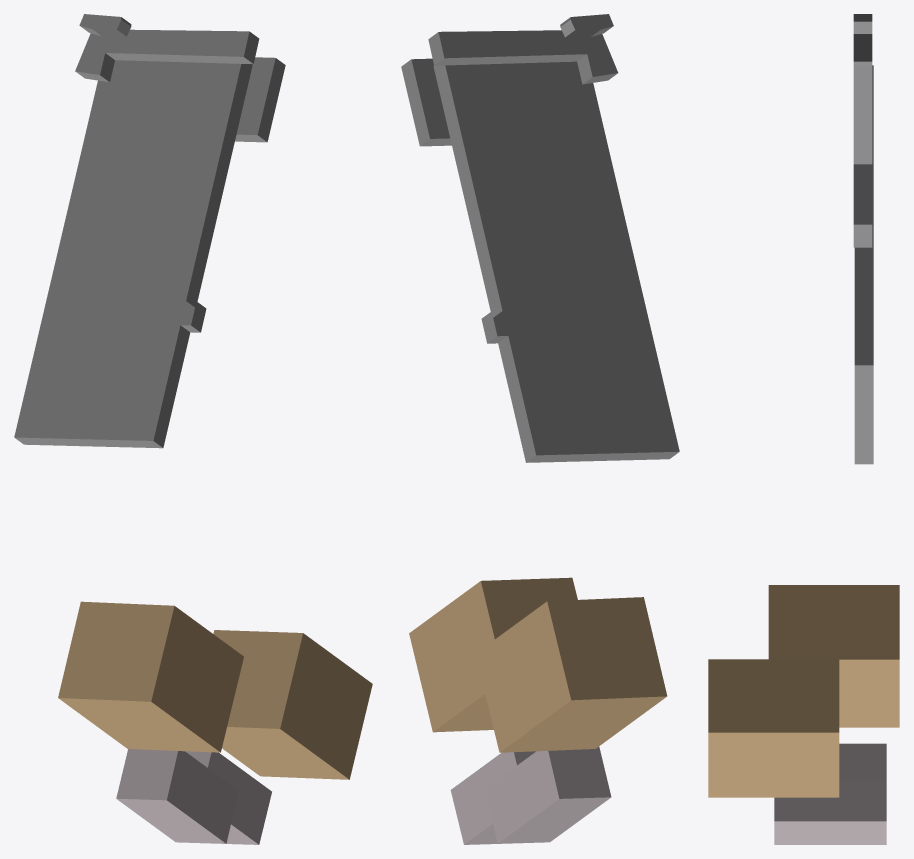
3 renders of one model, left to right at view 1: azimuth 30°, elevation 25°; view 2: azimuth 150°, elevation 25°; view 3: azimuth 270°, elevation 25°, orthographic. The views are drawn at different scales.
Parts seen in each view (by area): view 1: 0_3_0_1_1_0; view 2: 0_3_0_1_1_0; view 3: 0_3_0_1_1_0.
Part boxes in pixels (x1,y1,x2,y2): 0_3_0_1_1_0: (14, 14, 372, 844); 0_3_0_1_1_0: (401, 14, 679, 844); 0_3_0_1_1_0: (708, 14, 899, 844).
Bounding box in the file's own units: 47.2 × 137 × 30.7.
